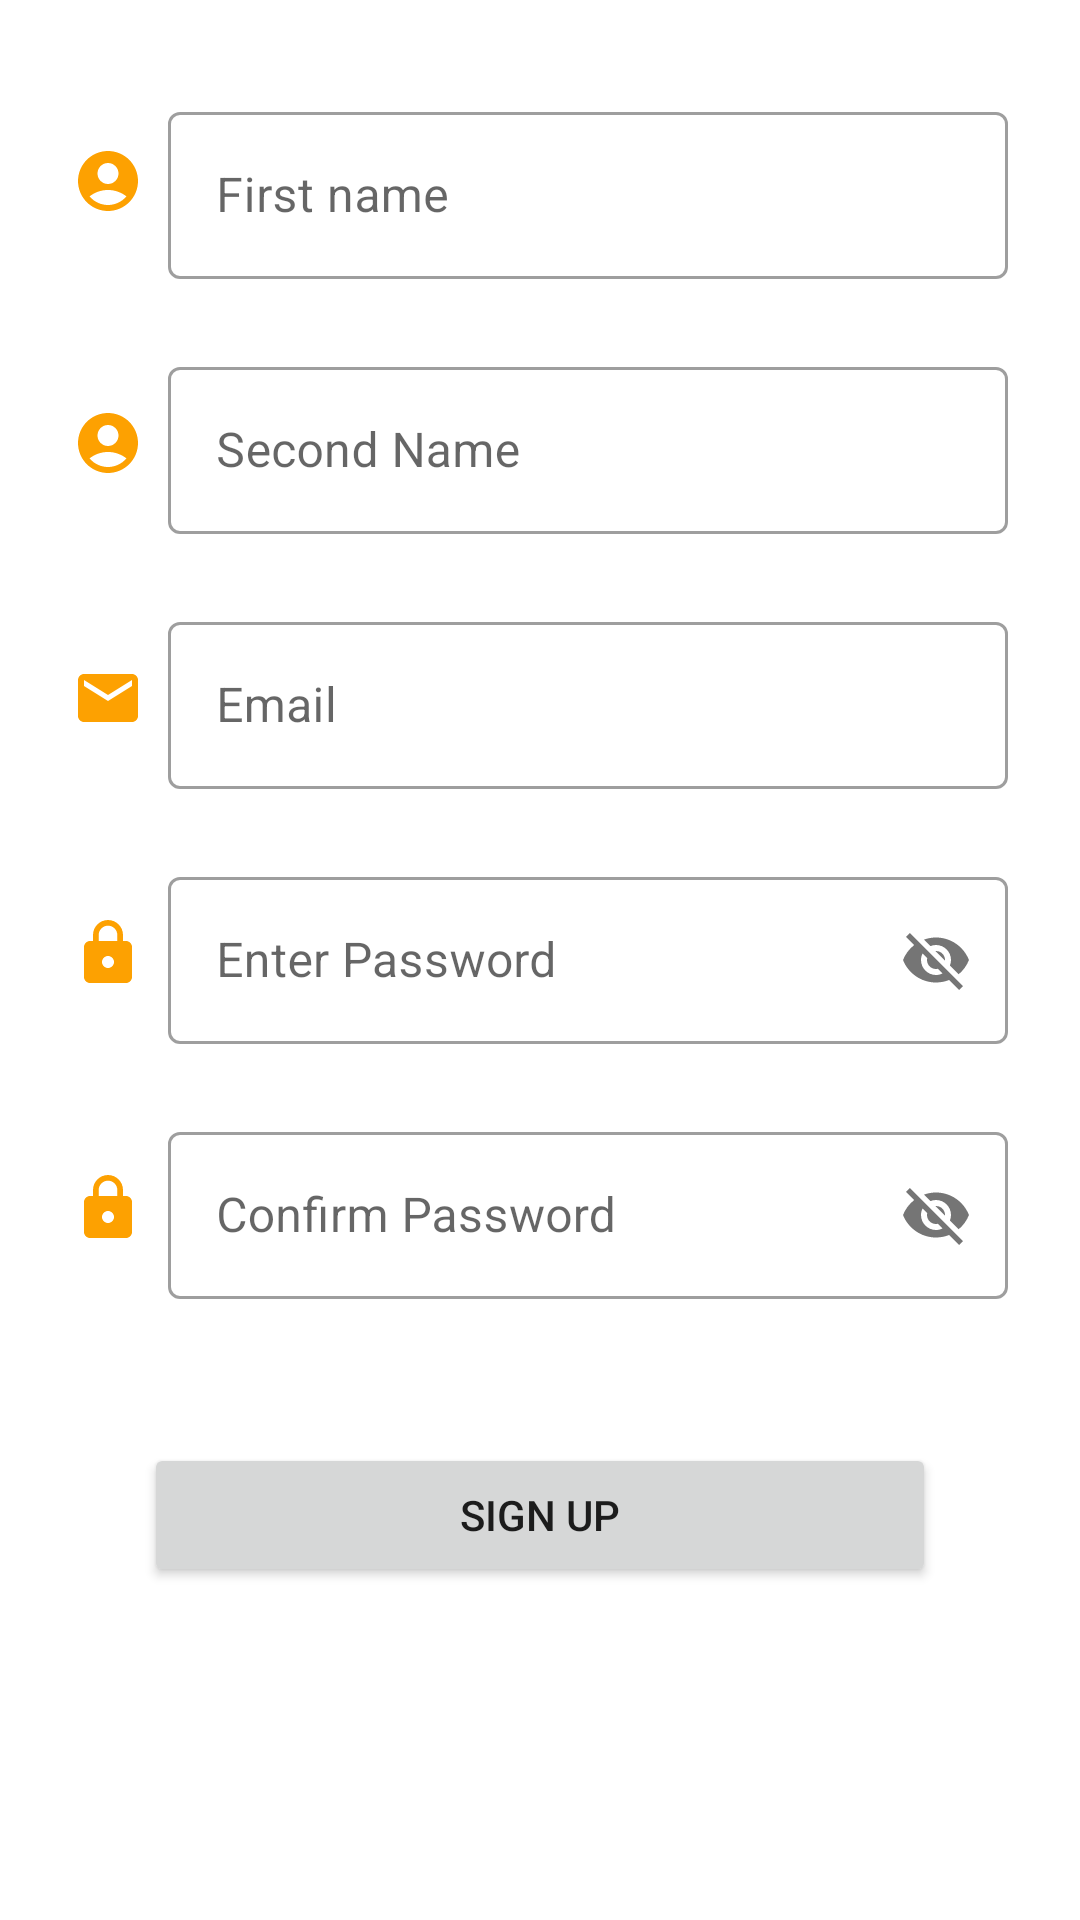

Screen size 1080 x 1920. Icon name, then its box in pixels as (x1,y1,x2,y2):
account circle: (78,151,138,211), (78,413,138,473)
lock: (84,920,132,983), (84,1175,132,1238)
